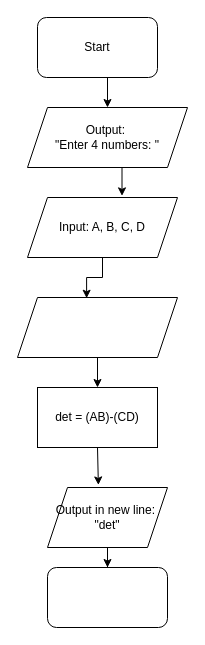
This 205x645 diagram has some shape labels left out. The box of each missing label's shape, as (x1, y1, x2, y2) in pixels:
End: (46, 566, 168, 628)
Output in this format: "A B C D": (16, 296, 178, 358)
